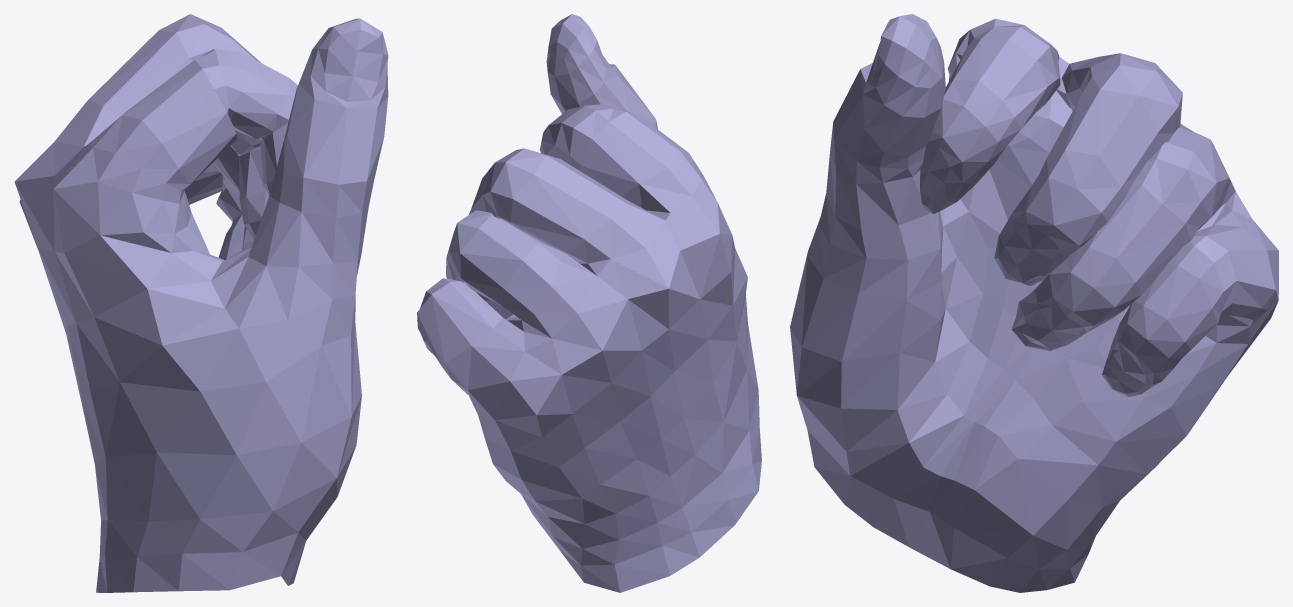
Rendered from frame_0050_source_000050_hand.glb.
The picture shows the model from 3 angles, left to right: view 1: azimuth 30°, elevation 25°; view 2: azimuth 150°, elevation 25°; view 3: azimuth 270°, elevation 25°; orthographic projection. The views are drawn at different scales.
Parts seen in each view (by area): view 1: world; view 2: world; view 3: world.
Part boxes in pixels (x1,y1,x2,y2): world: (14,14,388,592); world: (417,14,761,592); world: (790,14,1278,592).
Bounding box in the file's own units: 0.0635 × 0.1252 × 0.09.
